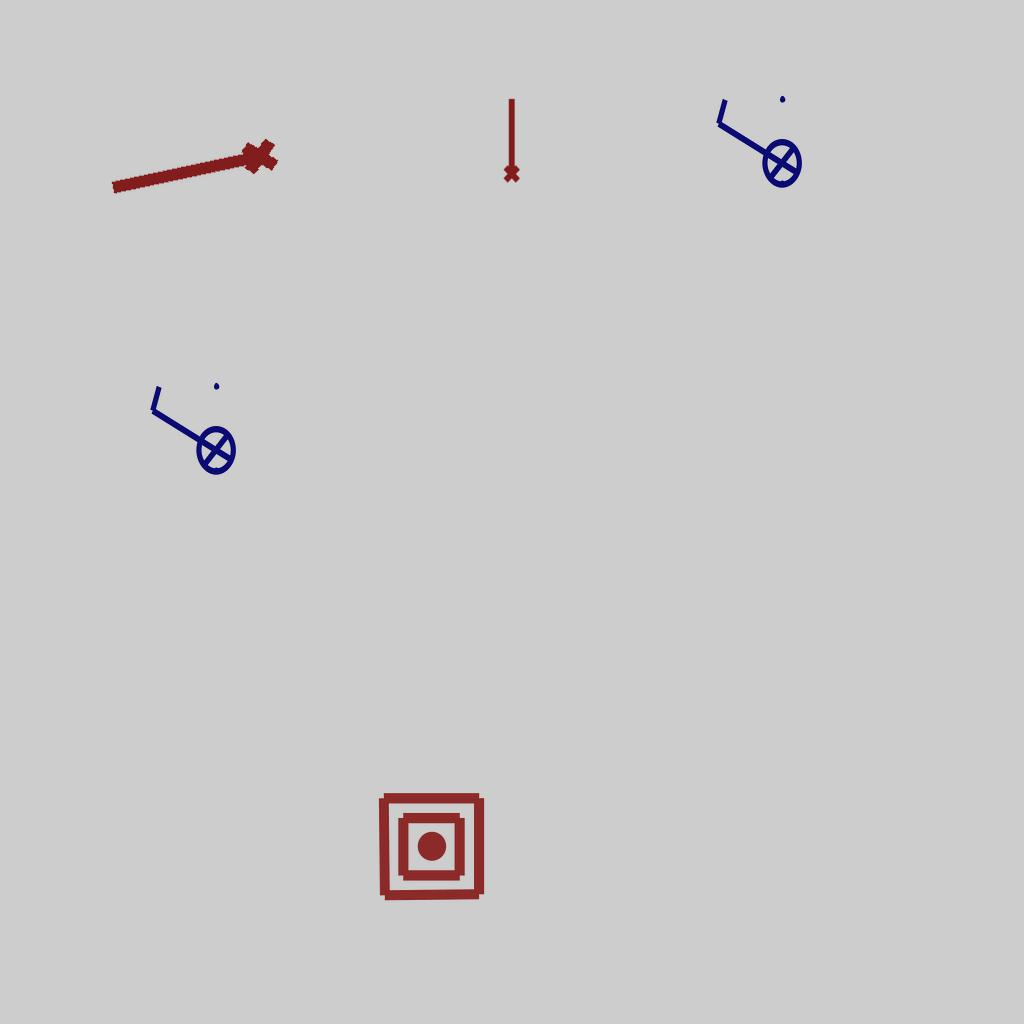ASR_Ansaugoeffnung: (103, 132, 285, 214), (499, 96, 522, 184)
Ausschalter_beleuchtet: (708, 90, 804, 202), (142, 377, 238, 489)
NAM-Nichtautomatischer_Melder: (375, 790, 488, 903)
